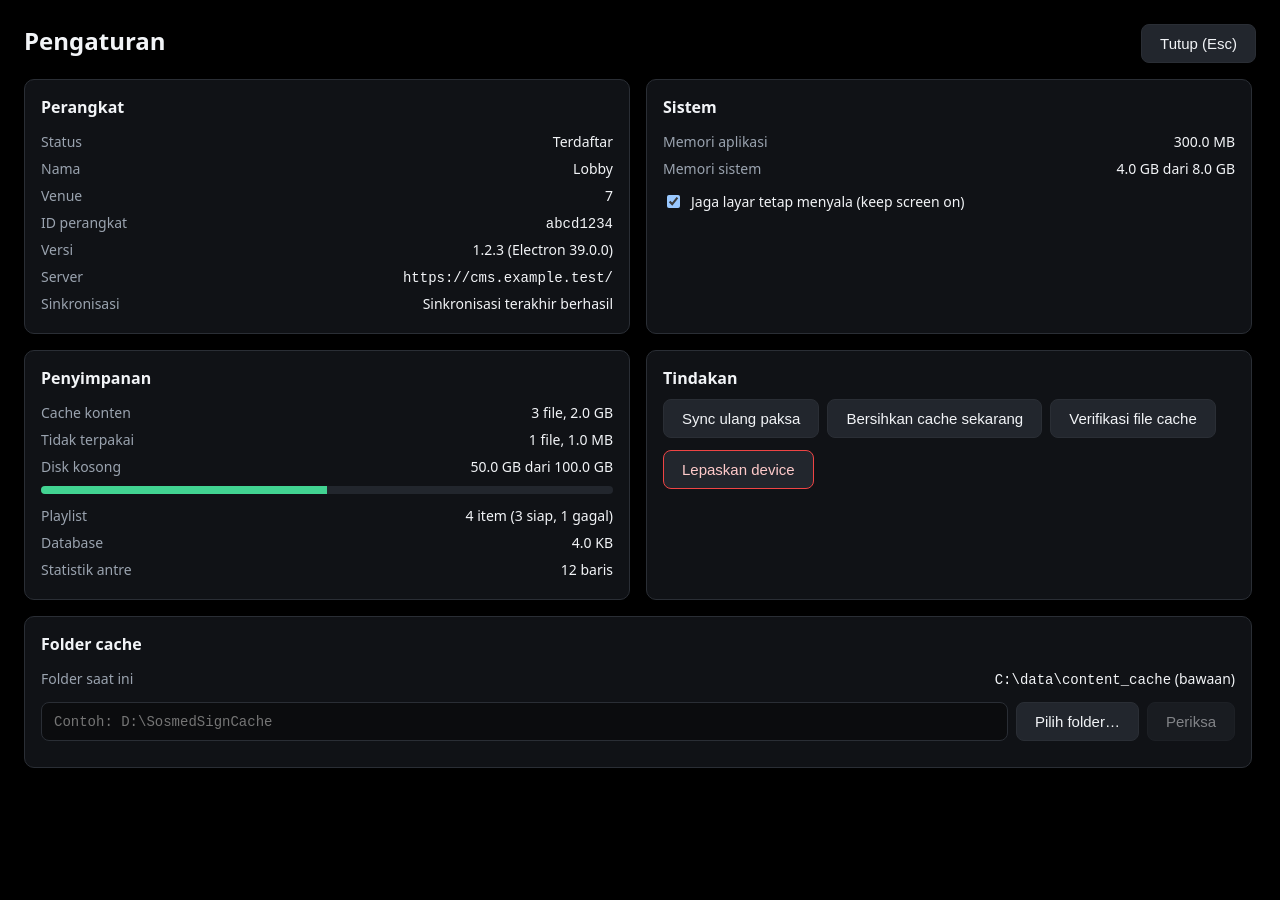
Test: SettingsOverlay › shows failures of actions as errors, even when the API throws
Step 1. Click the button "Bersihkan cache sekarang" → {"x": 935, "y": 418}, box left=827, top=399, right=1042, bottom=438
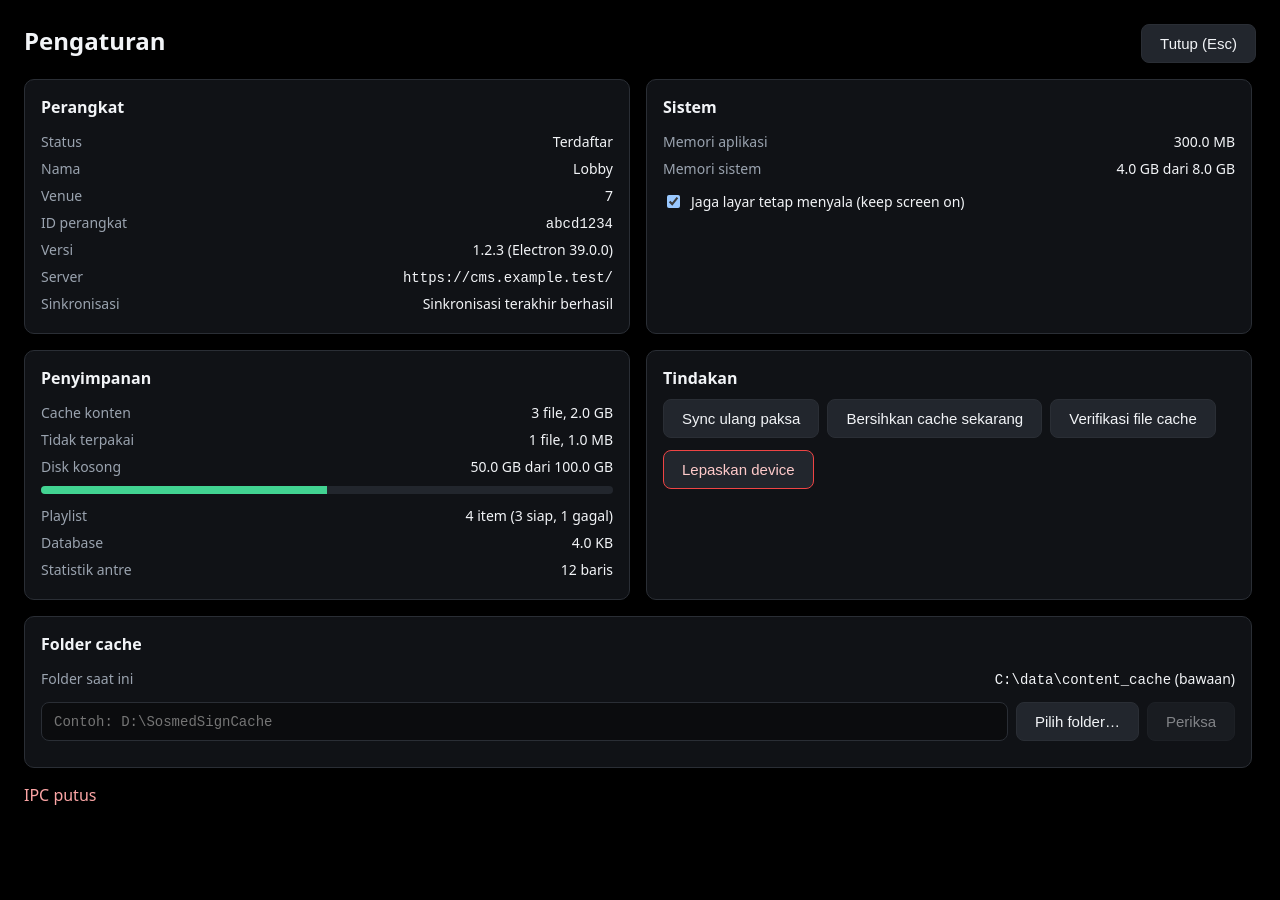
Check: the message with class "error" reads "IPC putus", box left=24, top=784, right=96, bottom=806
